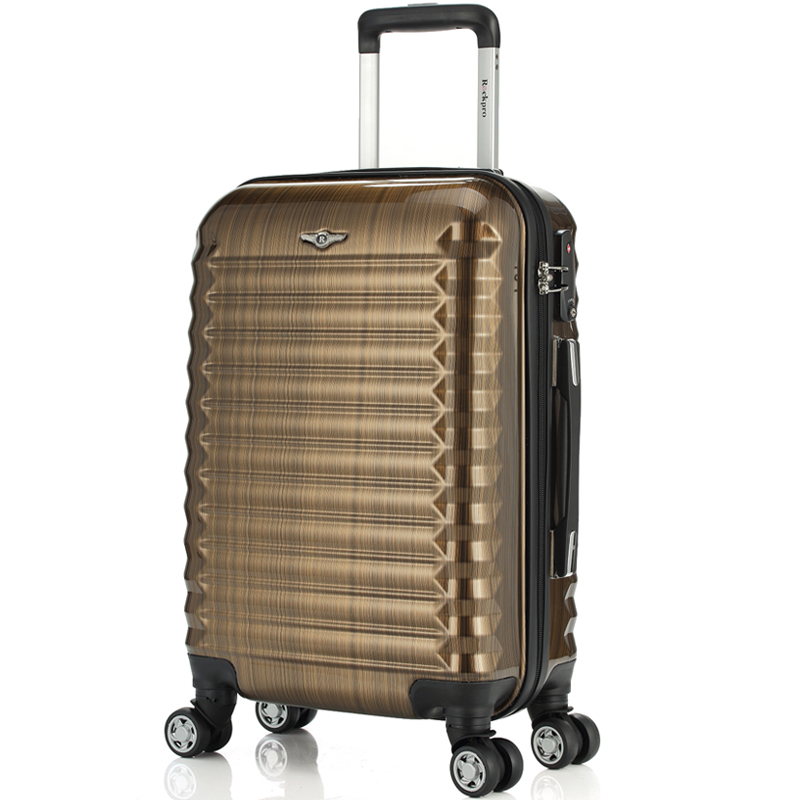luggage: (163, 2, 601, 800)
